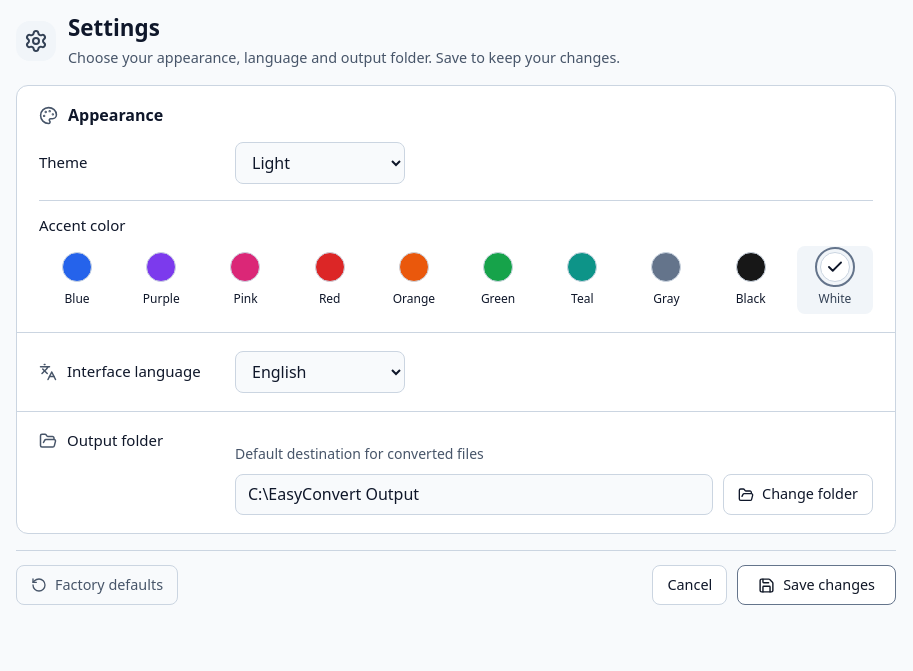
Test: keeps the current draft and permits retry when factory defaults cannot be loaded
Select "Dark" in the dropdown labelled "Theme" at (320, 162), box [235,142,405,184]
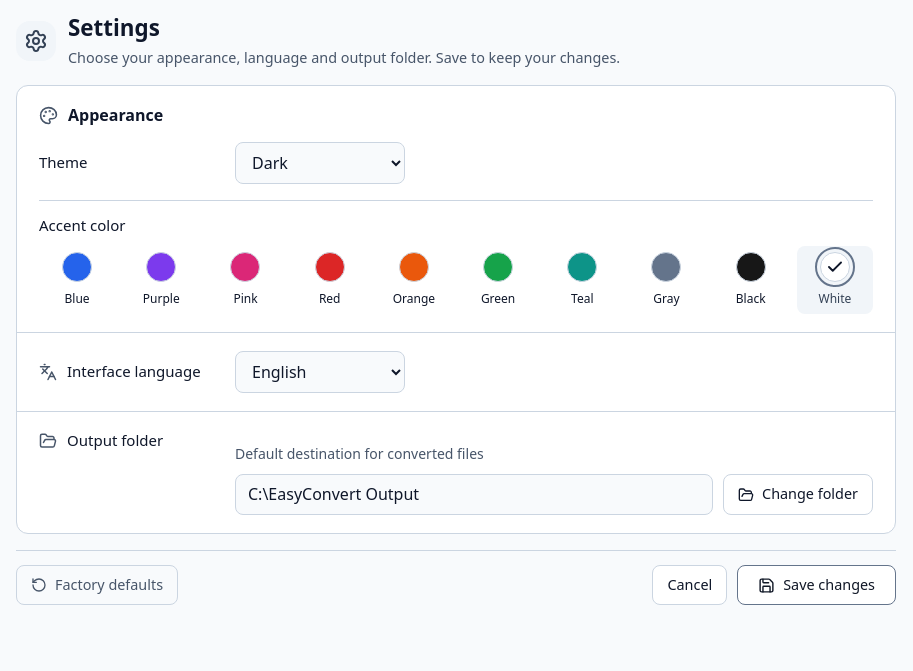
Click the button "Factory defaults" at (97, 585), box [16,565,178,605]
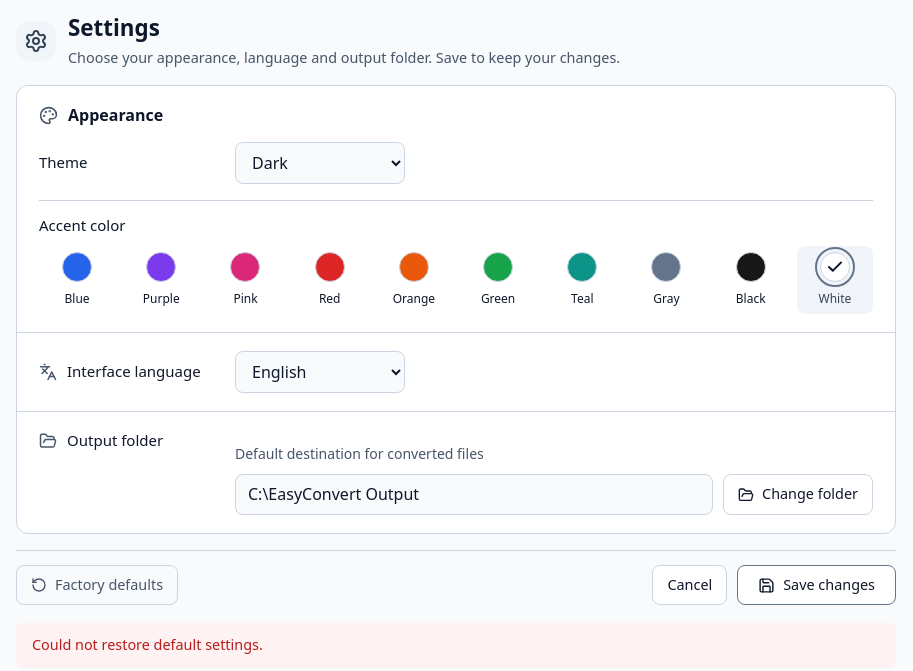
Expected: the message reads "Could not restore default settings.", [32,635,263,654]
